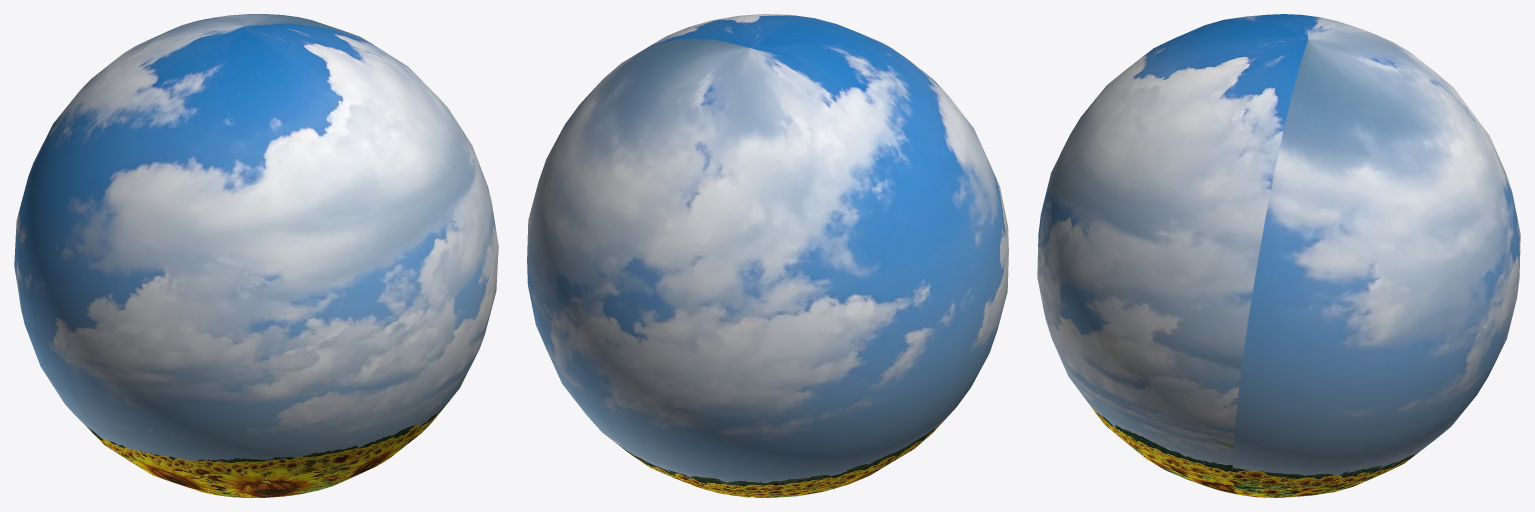
File: astro-com-3.glb
3 renders of one model, left to right at view 1: azimuth 30°, elevation 25°; view 2: azimuth 150°, elevation 25°; view 3: azimuth 270°, elevation 25°, orthographic.
Visible parts, largest first — view 1: Sphere; view 2: Sphere; view 3: Sphere.
Part boxes in pixels (x1,y1,x2,y2): Sphere: [14, 14, 498, 497]; Sphere: [527, 14, 1008, 497]; Sphere: [1037, 14, 1520, 497].
Size of the model in its own units: 17.59 by 17.56 by 17.54.
Materials: 2 (2 with a texture image).
